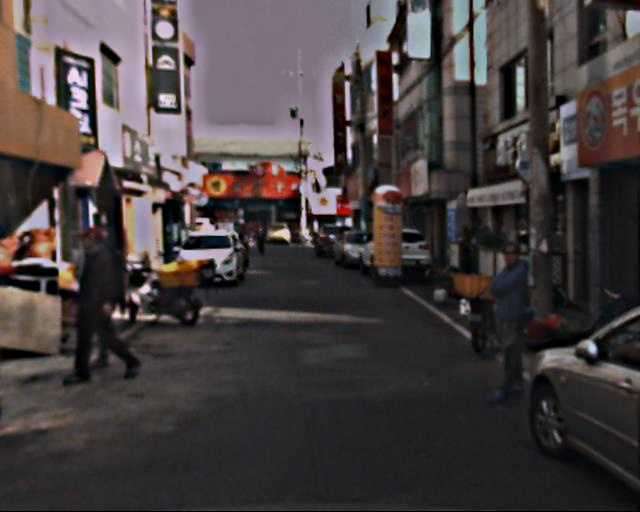person: (61, 223, 139, 385), (473, 244, 545, 408), (253, 216, 271, 259)
